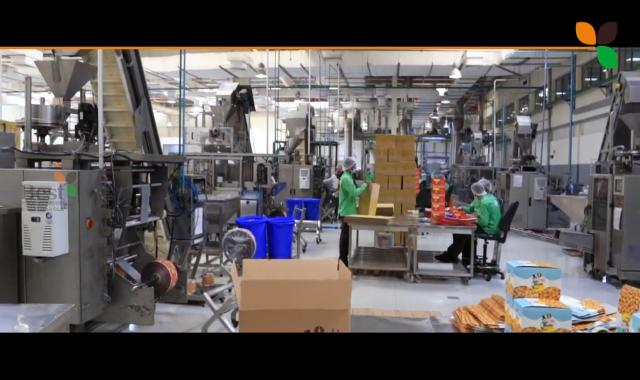hairnet: (470, 181, 486, 197), (342, 156, 355, 172)
